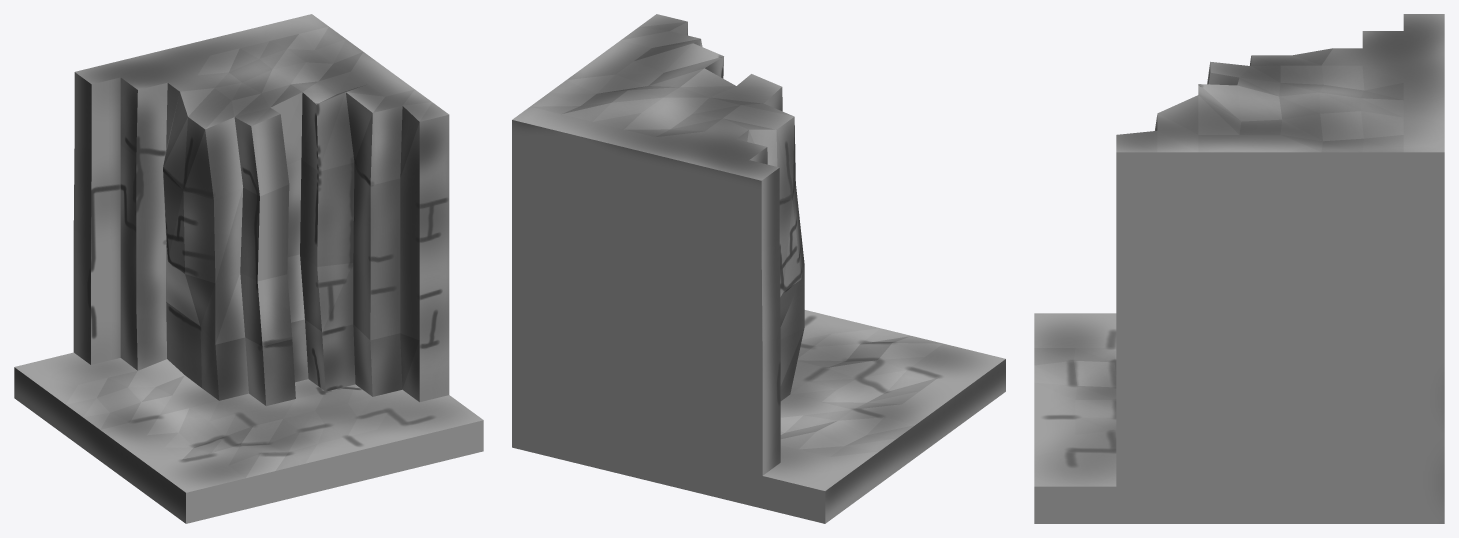
The model's file is corner.fbx.
The picture shows the model from 3 angles, left to right: view 1: azimuth 30°, elevation 25°; view 2: azimuth 150°, elevation 25°; view 3: azimuth 270°, elevation 25°; orthographic projection. The views are drawn at different scales.
Parts seen in each view (by area): view 1: Cube; view 2: Cube; view 3: Cube.
Boxes of the visible parts, x1,y1,x2,y2 form: Cube: [14, 14, 483, 523]; Cube: [512, 14, 1005, 523]; Cube: [1034, 14, 1444, 523].
Bounding box in the file's own units: 100 × 105 × 100.
1 material, 1 textured.
